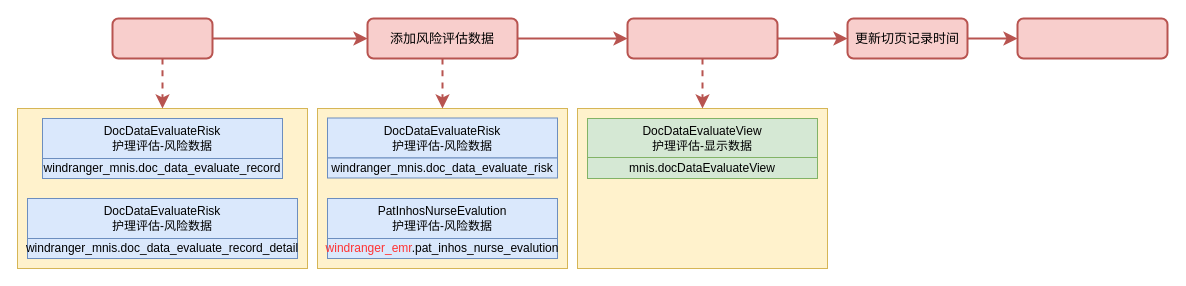
This 1186x286 diagram has some shape labels left out. Each missing label, with the centre of its shape:
保存护理评估-视图数据: point (702, 38)
推送宣教记录 到交互平台: point (1092, 38)
添加护理评估 主记录和明细: point (162, 38)
